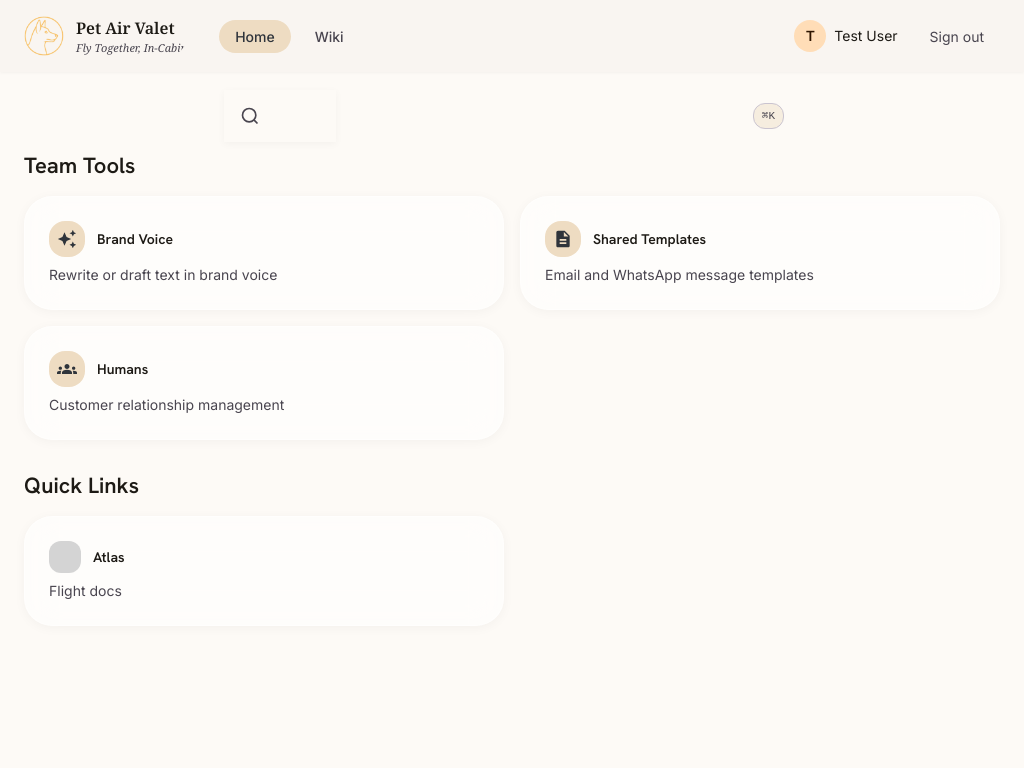
StartPage › shows quick-links search heading when only links match
Step 1. Replace the text in the field labelled "⌘K" with "flight" → (768, 116), box [224, 104, 800, 128]
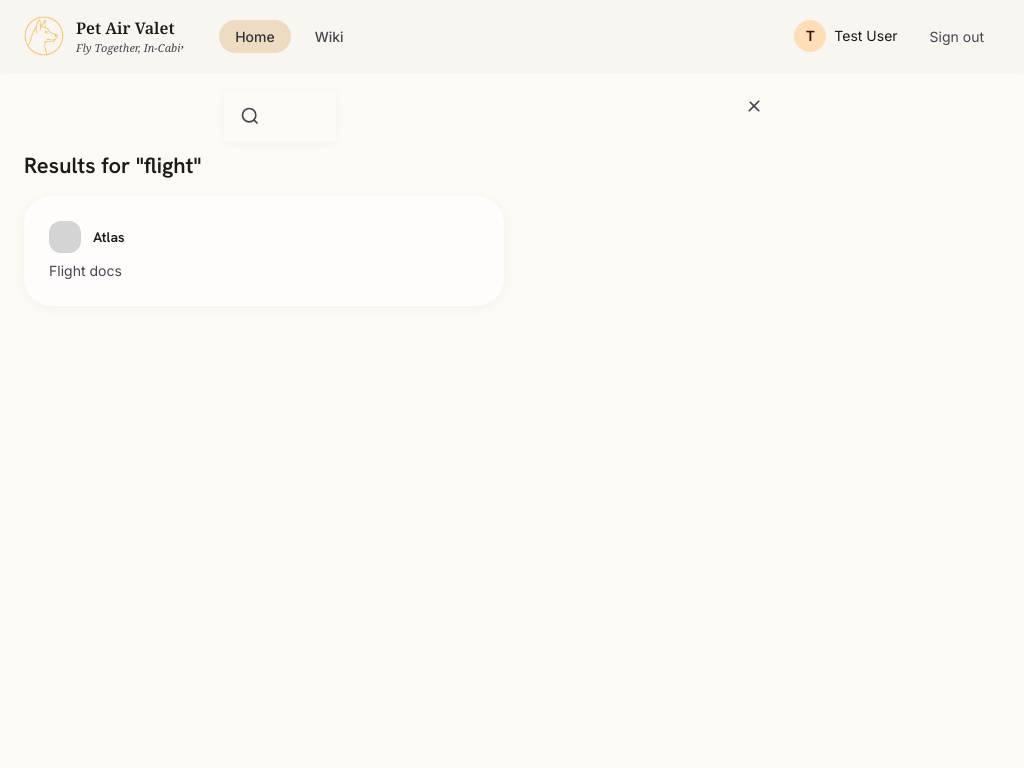
Check: the heading "Results for \"flight\"" is shown, box [24, 151, 201, 180]
